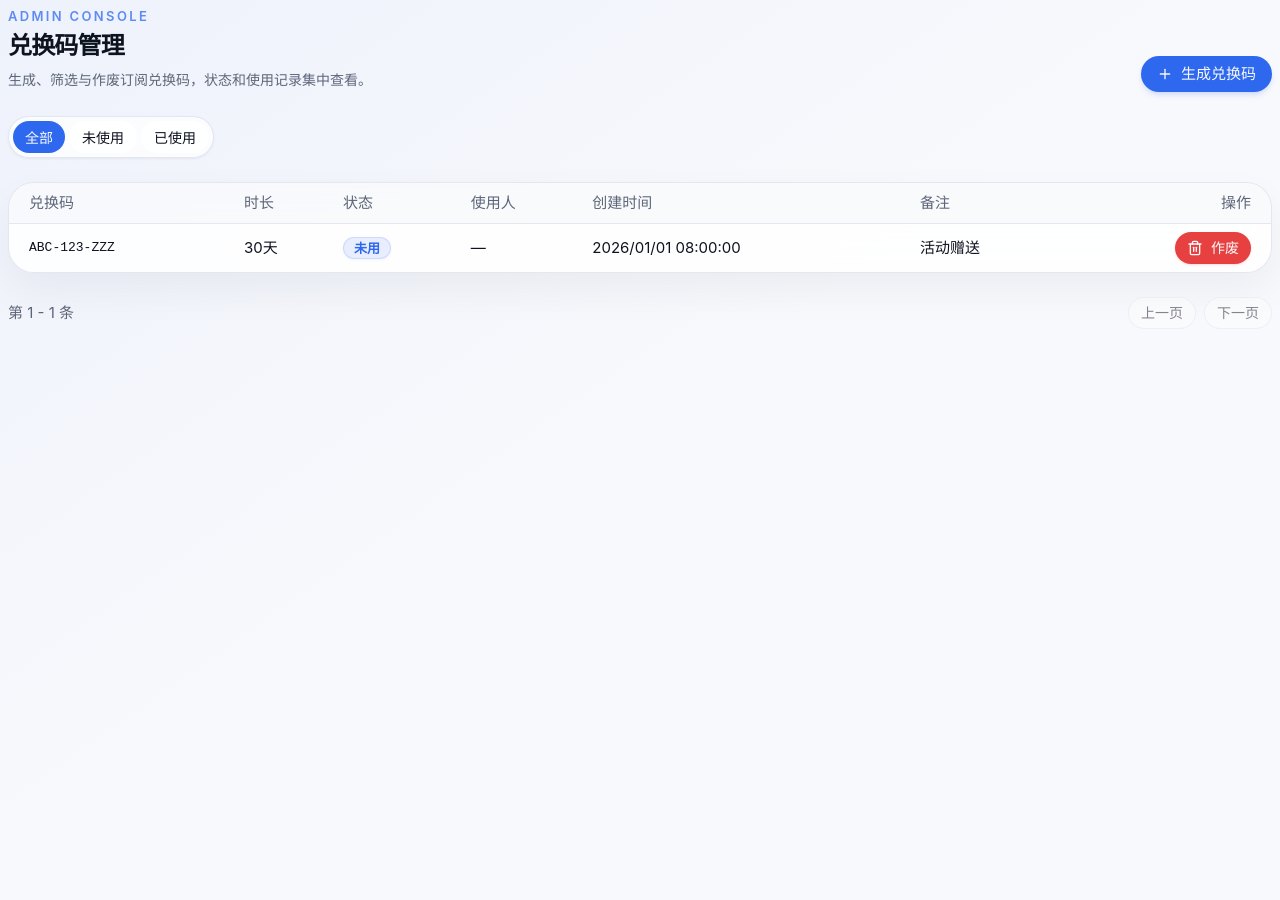
Test: CodesPage › 点击作废弹出二次确认对话框
What coordinates should you click on to do the following:
click the button "作废"
I would click on:
 (1213, 248)
Its box is 1175,232 -> 1251,264.
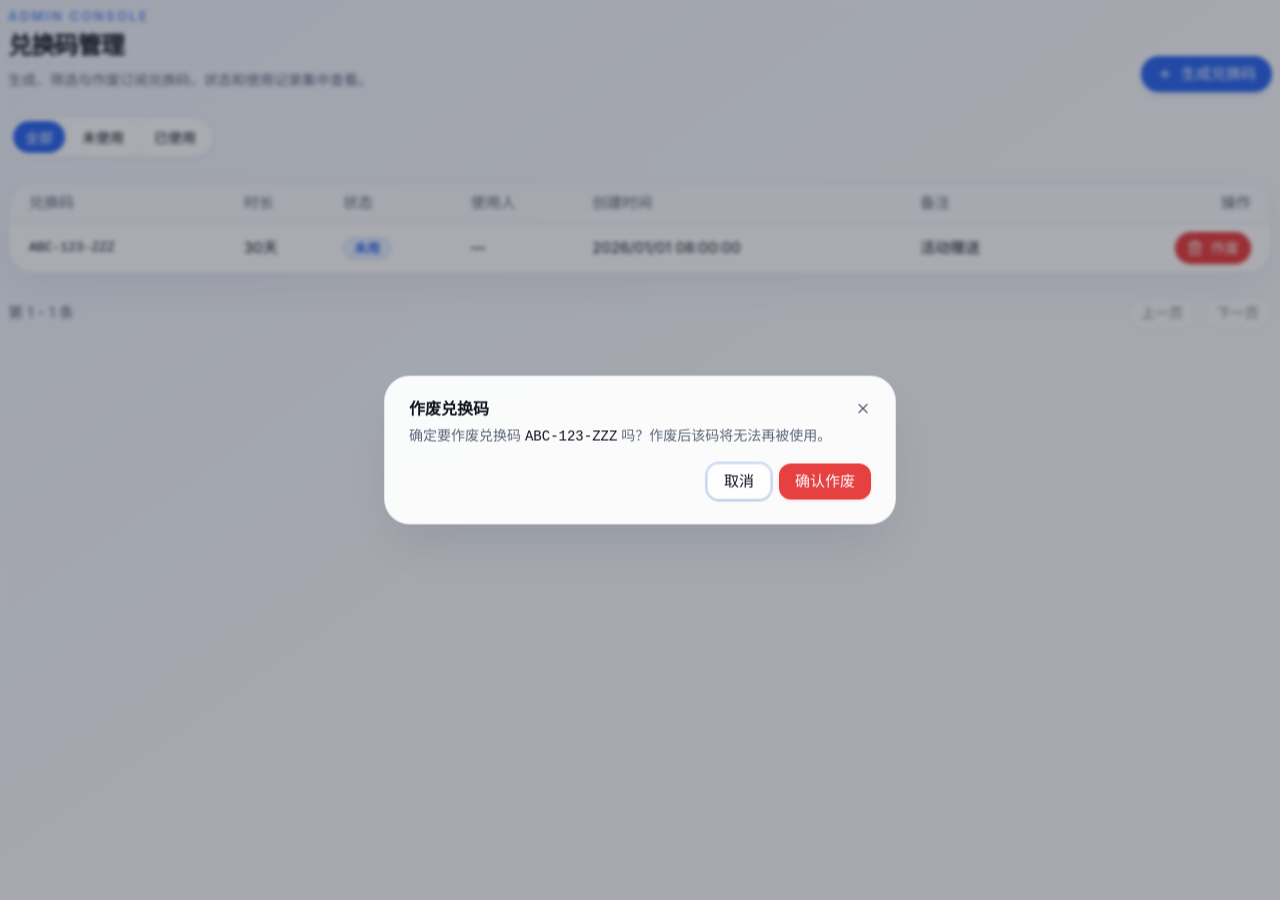
Expected: the button "确认作废" is shown, 779,464 -> 871,500
